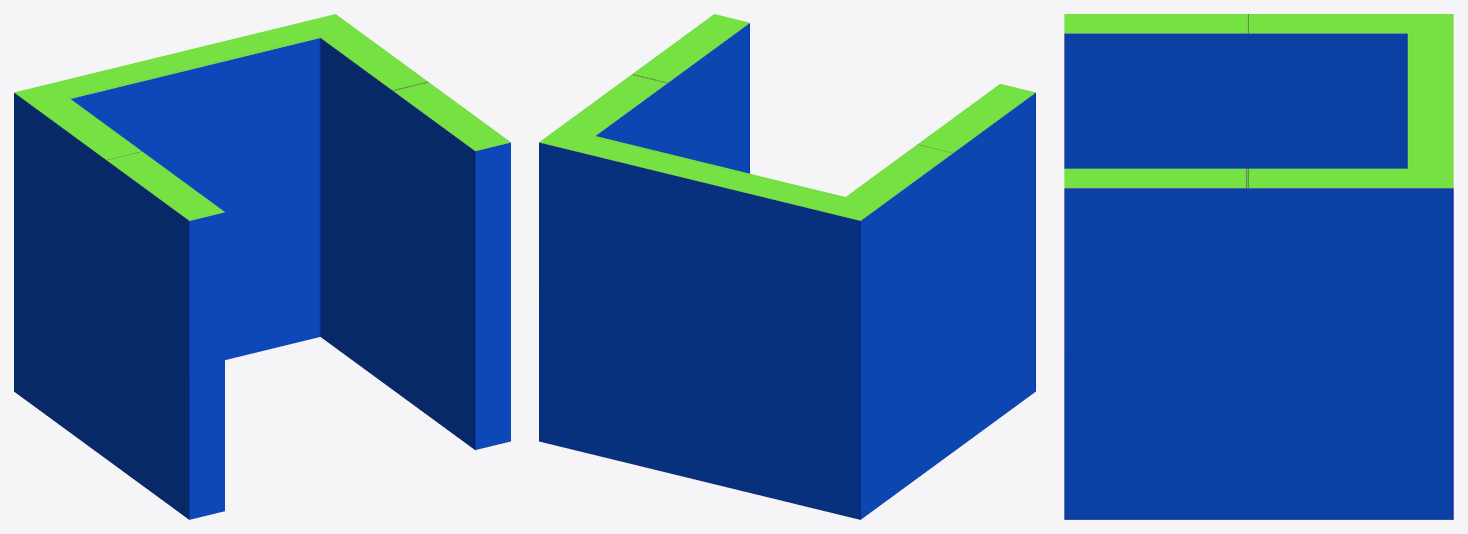
File: MK_MK_Wall_DeadEnd_D.fbx
3 views of the same model, side by side, from view 1: azimuth 30°, elevation 25°; view 2: azimuth 150°, elevation 25°; view 3: azimuth 270°, elevation 25° (orthographic). The views are drawn at different scales.
Visible parts, largest first — view 1: MK_Wall_DeadEnd_D; view 2: MK_Wall_DeadEnd_D; view 3: MK_Wall_DeadEnd_D.
Part boxes in pixels (x1,y1,x2,y2): MK_Wall_DeadEnd_D: (14,14,510,519); MK_Wall_DeadEnd_D: (539,14,1035,519); MK_Wall_DeadEnd_D: (1064,14,1453,519).
Size of the model in its own units: 202 by 180 by 191.
Materials: 1 (1 with a texture image).
